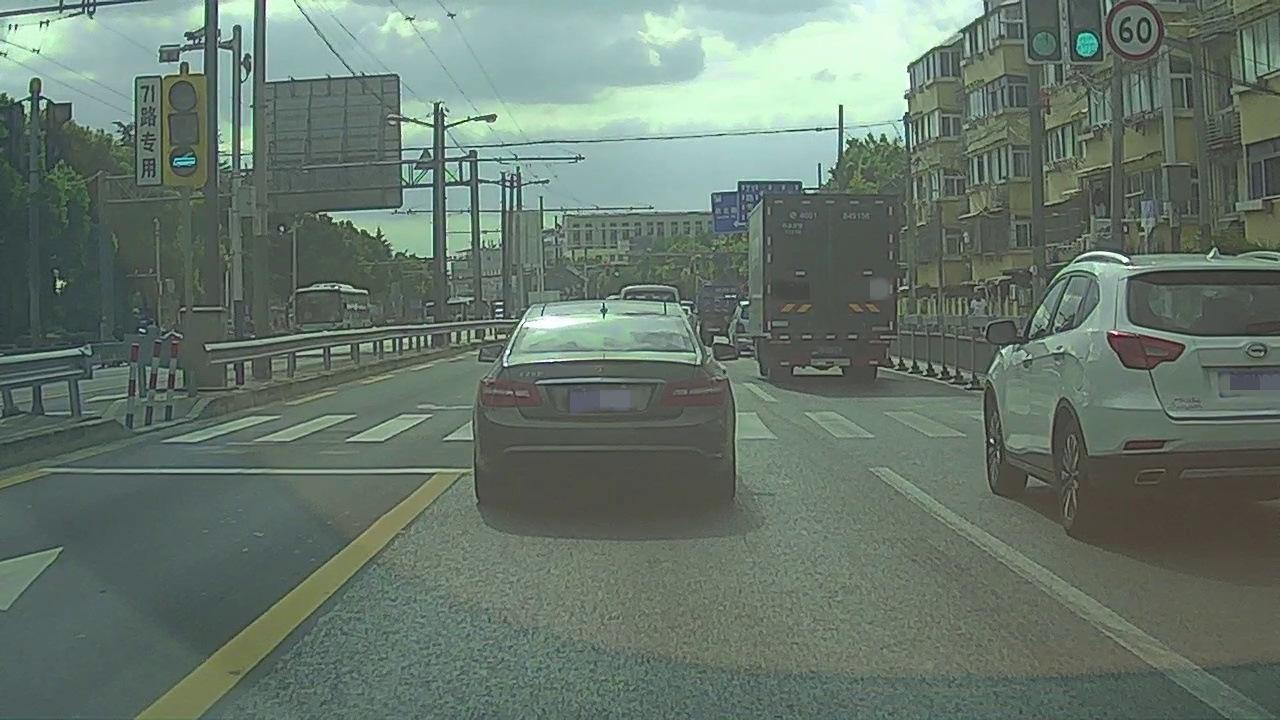traffic_light: (1026, 1, 1061, 60), (1069, 1, 1102, 61)
